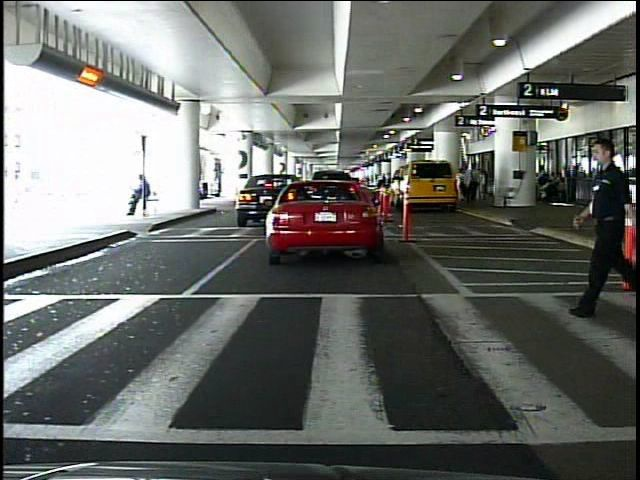person: (583, 137, 636, 318)
